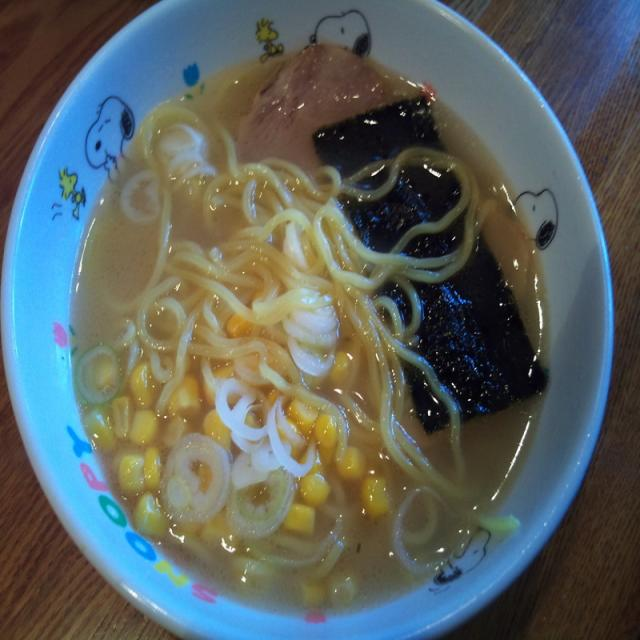面条主食: (60, 35, 581, 622)
